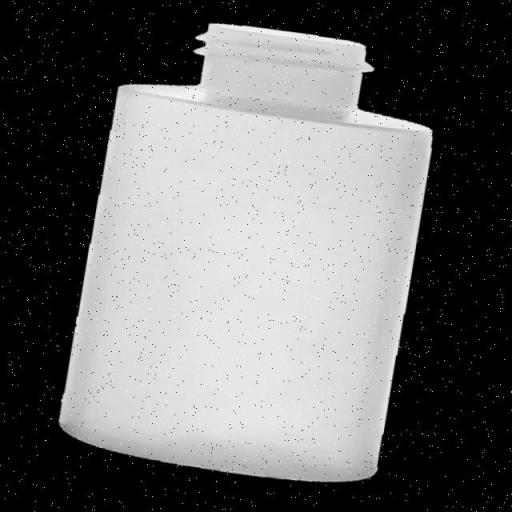plastic: (44, 5, 469, 503)
